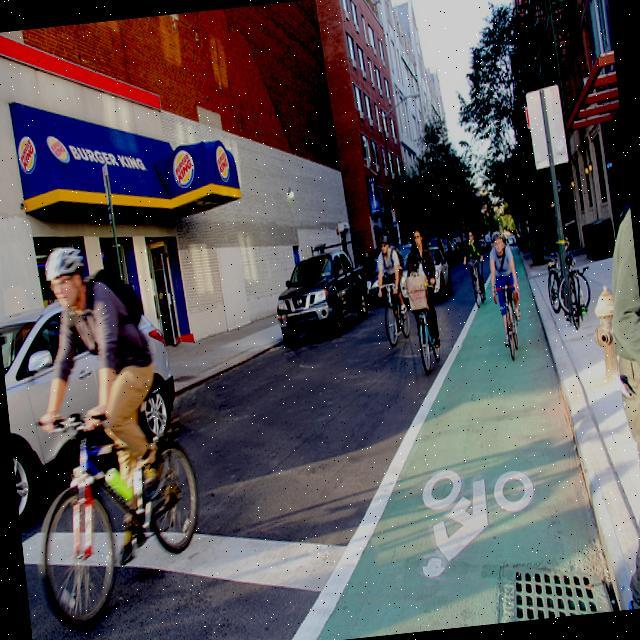fire_hydrant: (588, 283, 619, 376)
